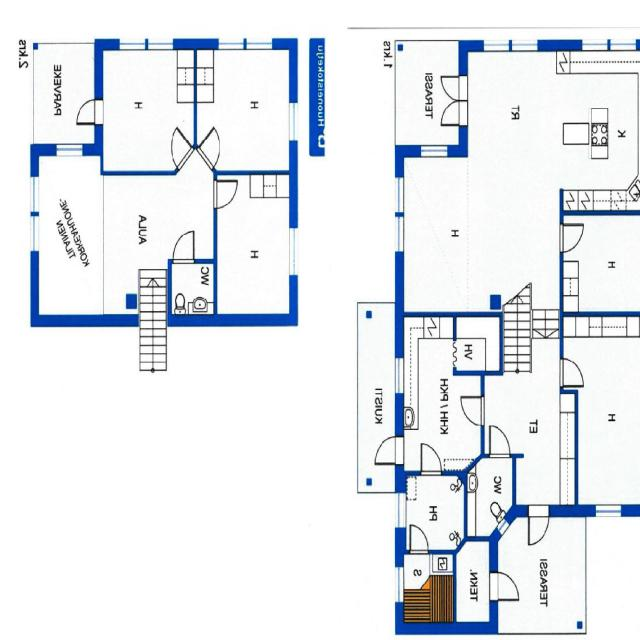door: (196, 126, 229, 170), (162, 127, 194, 170), (489, 572, 519, 601), (529, 504, 549, 545), (376, 437, 404, 464), (173, 231, 194, 264), (440, 76, 468, 100), (440, 101, 468, 125), (460, 397, 484, 425), (213, 180, 237, 208), (77, 100, 103, 125), (560, 225, 584, 252), (560, 359, 583, 387), (422, 444, 442, 476), (490, 426, 510, 458), (410, 524, 429, 554)
